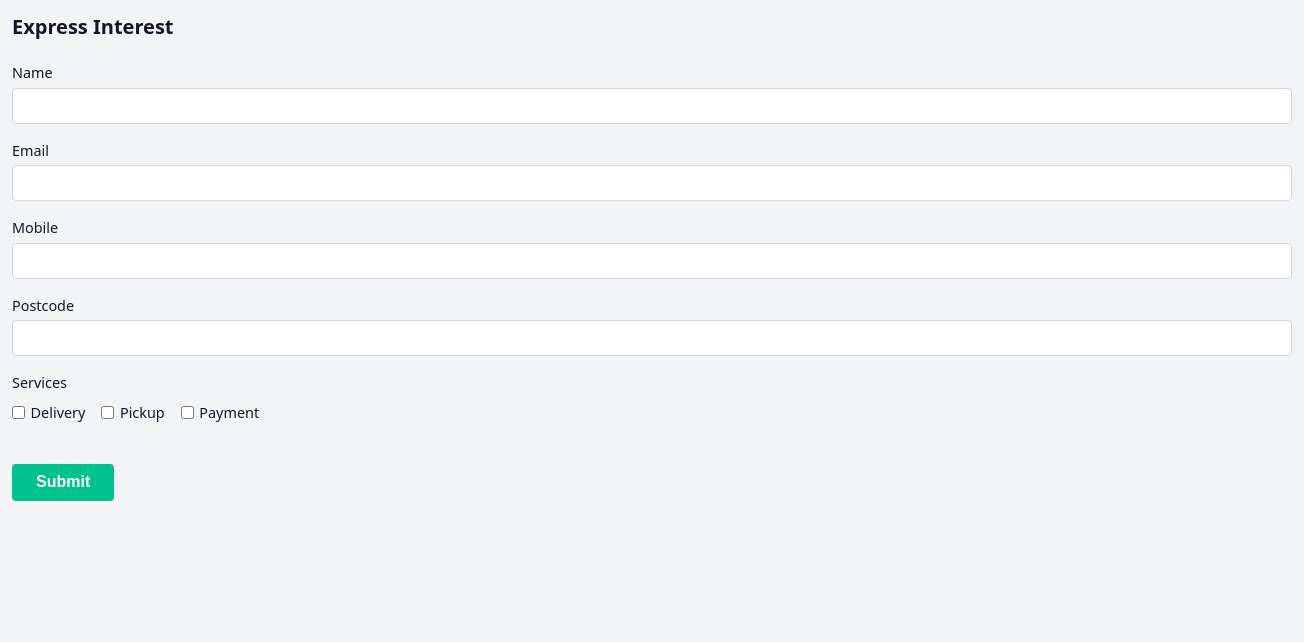
RegistrationForm validation › shows required-field errors for every field when the form is submitted empty
This screenshot has width=1304, height=642.
Click the button "Submit". click: (63, 482)
box: [12,464,114,501]
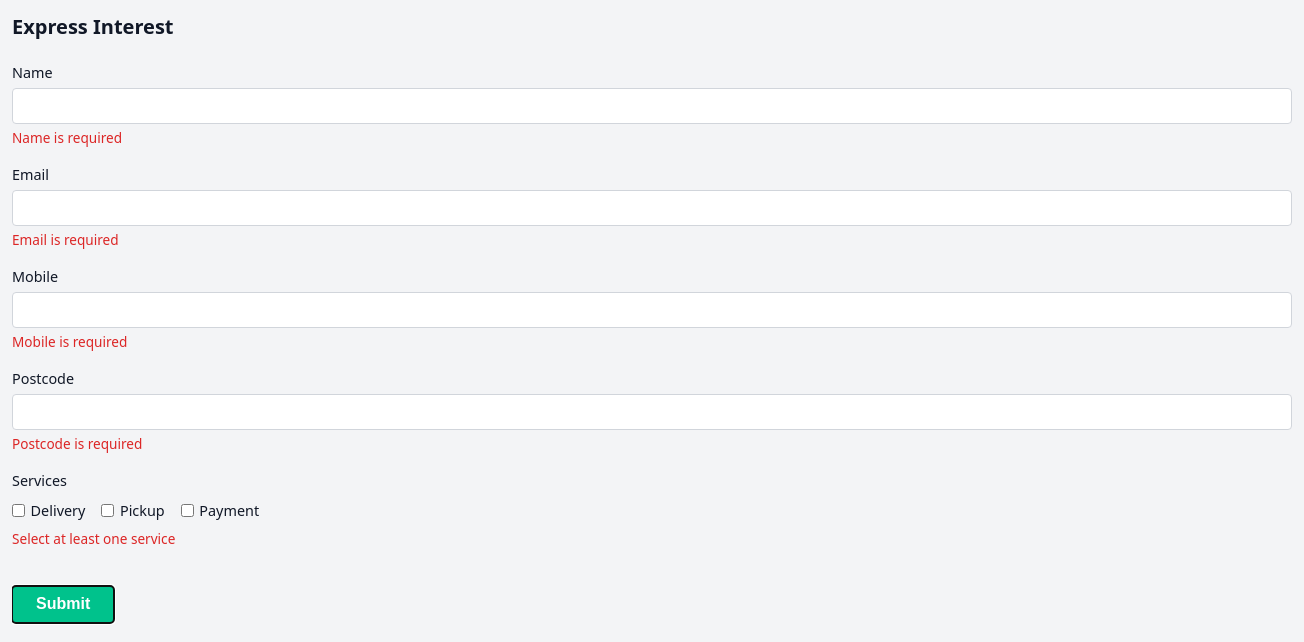
Expected: the text "Name is required" is shown, [12,128,122,147]
Expected: the text "Email is required" is shown, [12,230,119,249]
Expected: the text "Mobile is required" is shown, [12,332,127,351]
